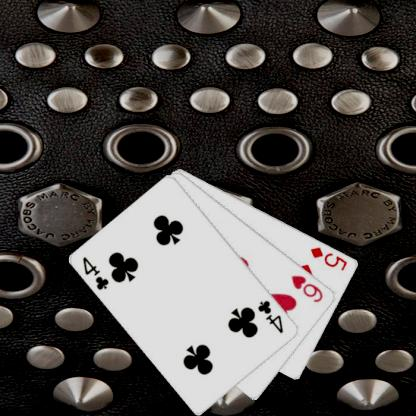4C: (80, 254, 111, 292), (255, 297, 285, 335)
5D: (308, 244, 349, 272)
6H: (289, 272, 324, 304)
